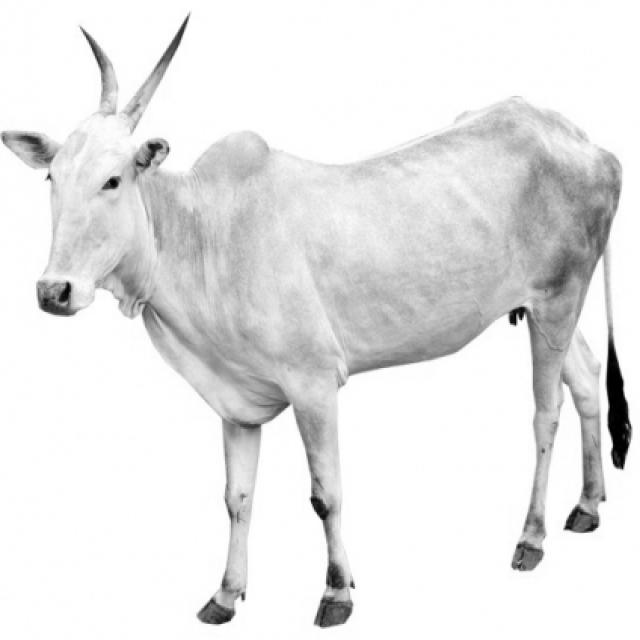Cow: (0, 9, 632, 627)
